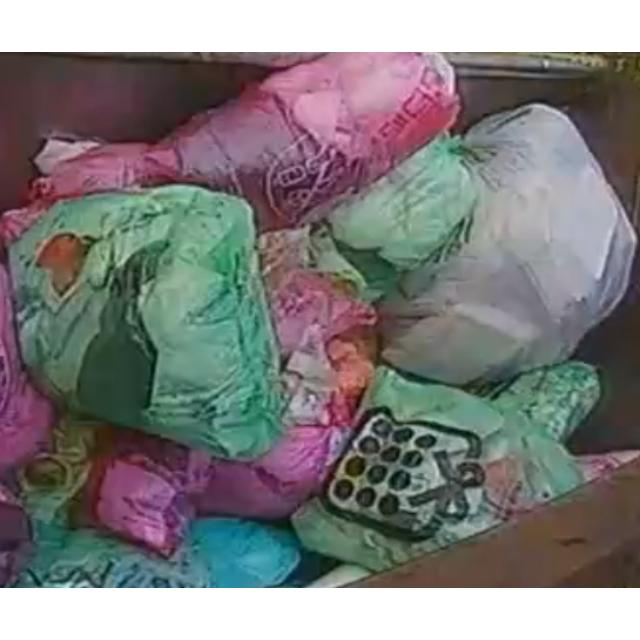general_trashbag: (11, 186, 284, 458), (292, 367, 581, 571)
other_trashbag: (31, 53, 459, 231), (380, 104, 636, 385)
